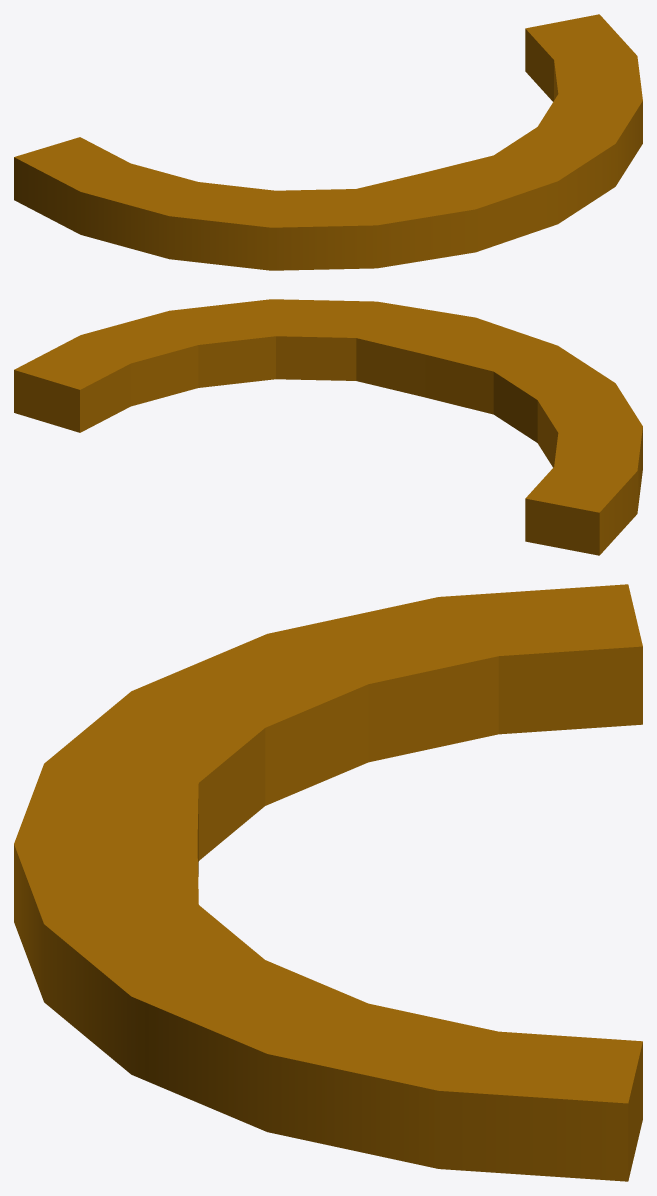
File: pathway.fbx
3 views of the same model, one above another, from view 1: azimuth 30°, elevation 25°; view 2: azimuth 150°, elevation 25°; view 3: azimuth 270°, elevation 25° (orthographic). The views are drawn at different scales.
Parts seen in each view (by area): view 1: pathway1; view 2: pathway1; view 3: pathway1.
Boxes of the visible parts, bbox=[...] form: pathway1: bbox=[14, 14, 642, 270]; pathway1: bbox=[14, 299, 642, 555]; pathway1: bbox=[14, 584, 642, 1181].
Bounding box in the file's own units: 3.66 × 0.2571 × 1.87.
